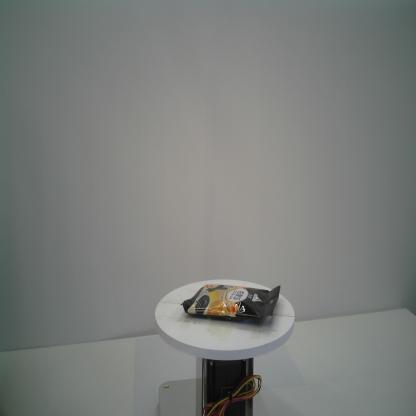Instant Drink: (180, 283, 281, 322)
